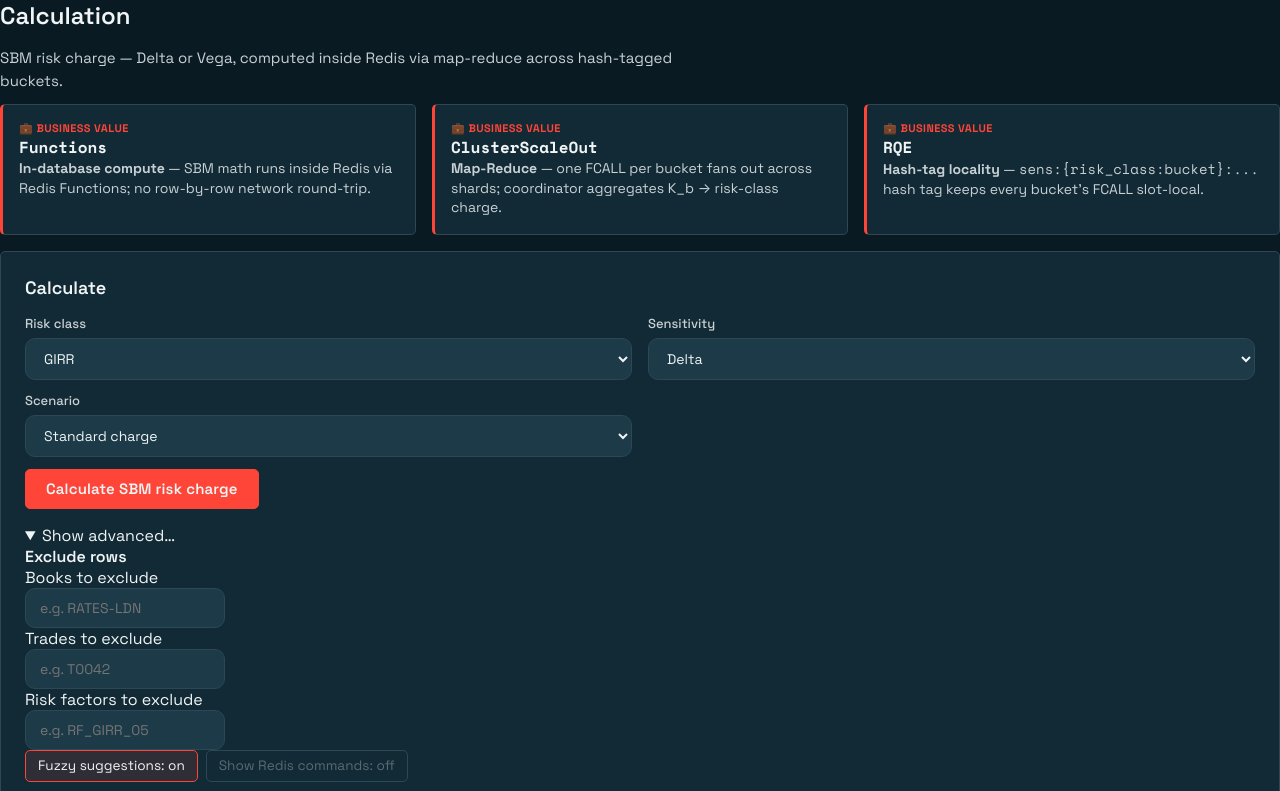
Test: Advanced disclosure — row-exclusion combos (book / trade_id / risk_factor) › clicking × on a chip removes it from the exclude set
The image size is (1280, 791).
In the dropdown labelled "Risk factors to exclude": x=125, y=730 [25,710,225,750], type "RF1,RF2,"
(page scrolled)
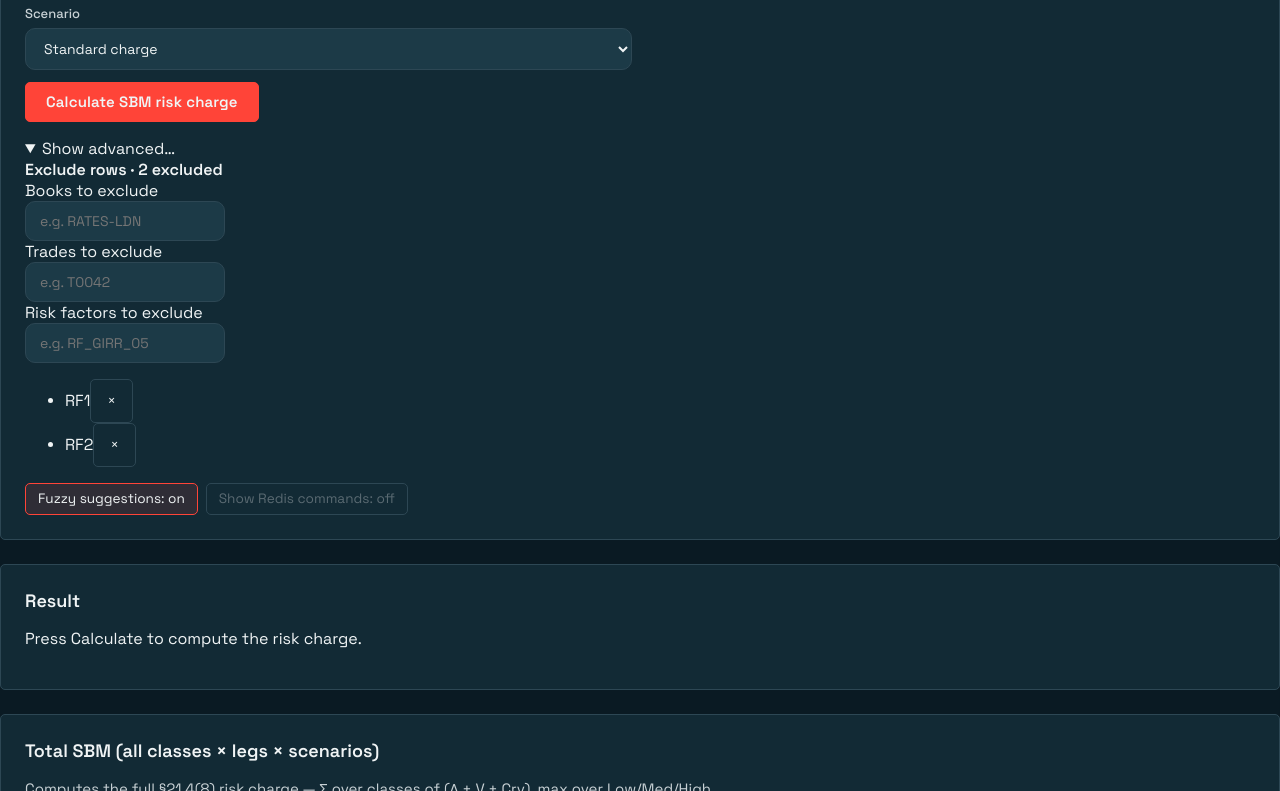
Check: the number of list items with test id "exclude-chip" is 2, box [65,379,133,423]; [65,423,136,467]
Click the button named "Remove RF1": x=112, y=401 [90,379,133,423]
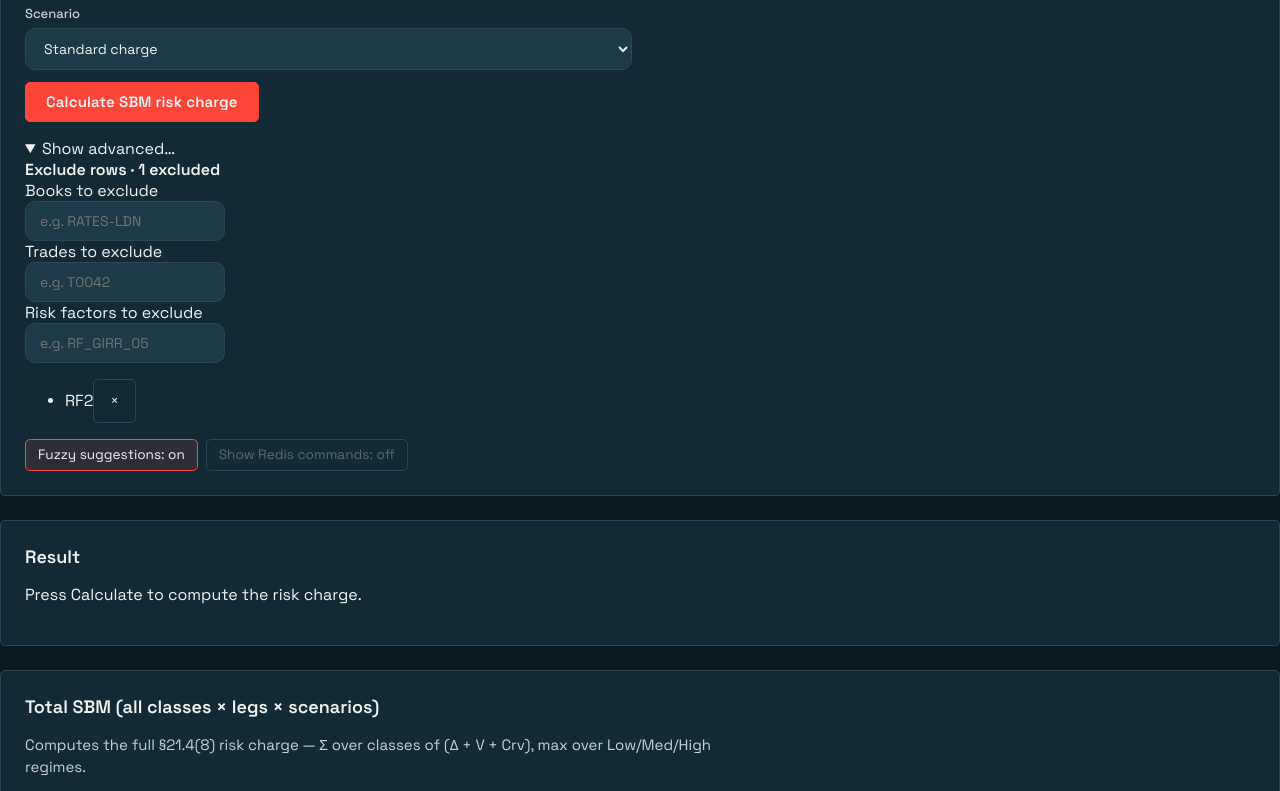
Check: the number of list items with test id "exclude-chip" is 1, box [65,379,136,423]
